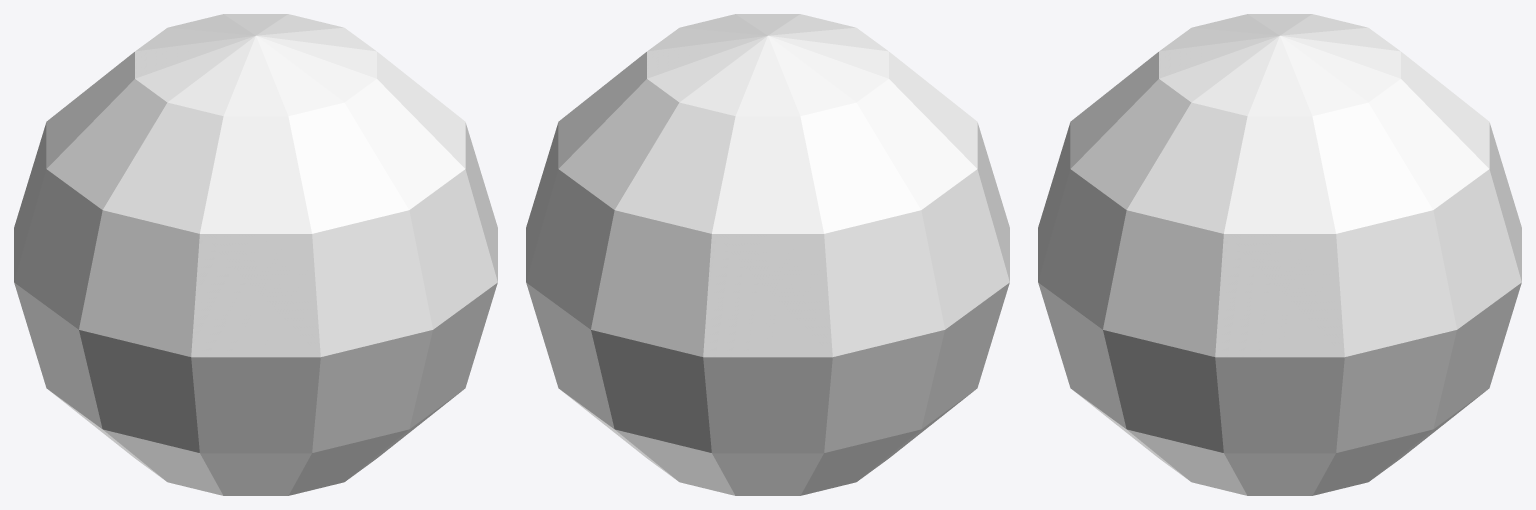
The model's file is cloud.gltf.
3 views of the same model, side by side, from view 1: azimuth 30°, elevation 25°; view 2: azimuth 150°, elevation 25°; view 3: azimuth 270°, elevation 25° (orthographic).
Parts seen in each view (by area): view 1: sphere; view 2: sphere; view 3: sphere.
Boxes of the visible parts, bbox=[...] form: sphere: bbox=[14, 14, 497, 495]; sphere: bbox=[526, 14, 1009, 495]; sphere: bbox=[1038, 14, 1521, 495].
Bounding box in the file's own units: 1 × 1 × 1.
Materials: 1 (1 with a texture image).
